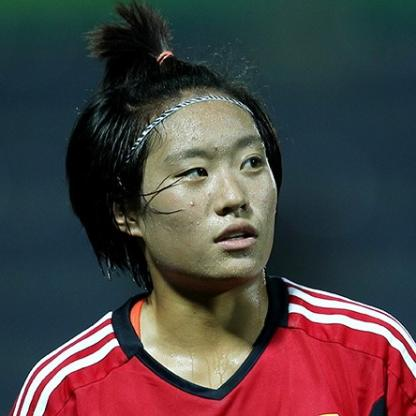person: (112, 75, 288, 278)
